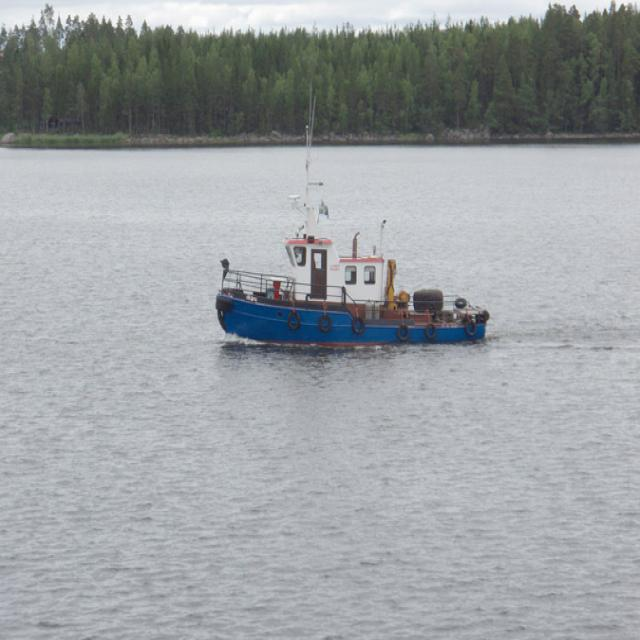fishing boat: (216, 199, 492, 347)
